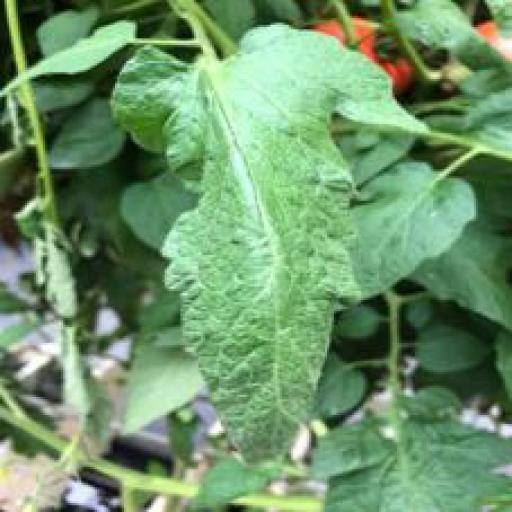Healthy: (106, 20, 398, 472), (340, 158, 484, 317)
